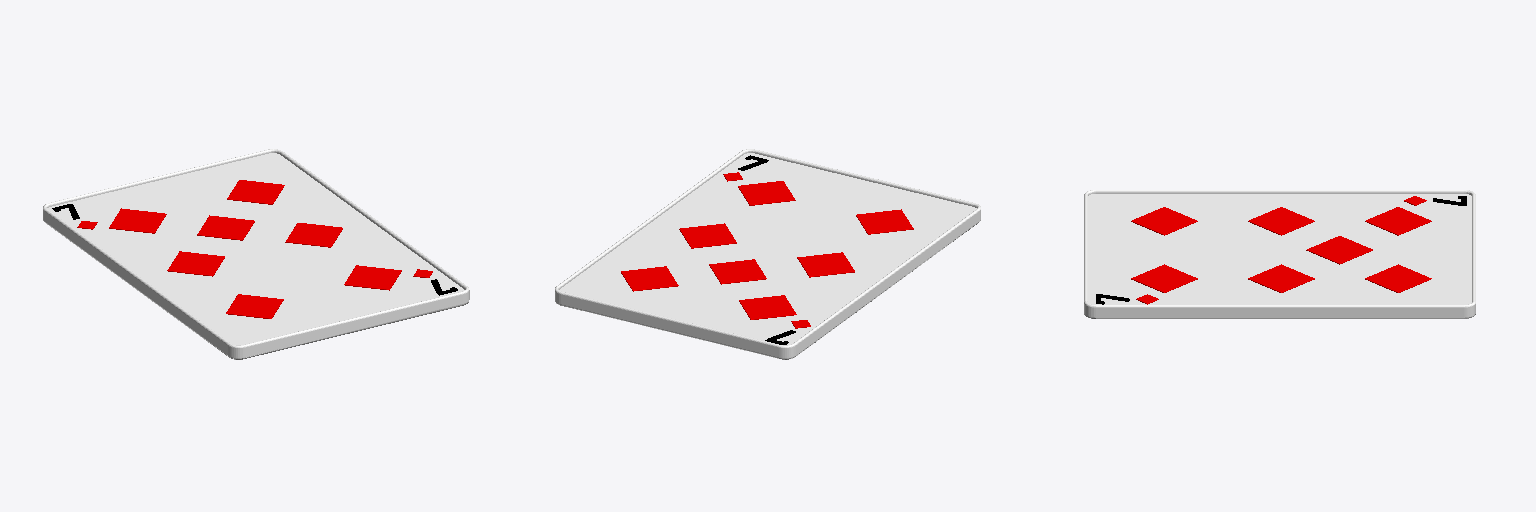
Rendered from diamonds_7.obj.
The picture shows the model from 3 angles: view 1: azimuth 30°, elevation 25°; view 2: azimuth 150°, elevation 25°; view 3: azimuth 270°, elevation 25°; orthographic projection.
Visible parts, largest first — view 1: rect4266.019, rect4266.073, path4884-1-4.006, path4884-1-7.003, path4884-1-4-9.004, path4884-1-4-1-4.002, path4884-1.006, path4884-1-7-8.002, path4884-1-40.004, rect4266.110; view 2: rect4266.019, rect4266.073, path4884-1-7.003, path4884-1-4.006, path4884-1-4-1-4.002, path4884-1.006, path4884-1-40.004, path4884-1-4-9.004, path4884-1-7-8.002; view 3: rect4266.019, rect4266.073, path4884-1.006, path4884-1-4.006, path4884-1-40.004, path4884-1-7.003, path4884-1-4-9.004, path4884-1-4-1-4.002, path4884-1-7-8.002.
Part boxes in pixels (bbox=[...]): rect4266.019: bbox=[47, 153, 464, 344]; rect4266.073: bbox=[43, 149, 469, 358]; path4884-1-4.006: bbox=[226, 294, 283, 318]; path4884-1-7.003: bbox=[167, 251, 224, 276]; path4884-1-4-9.004: bbox=[344, 265, 401, 290]; path4884-1-4-1-4.002: bbox=[197, 215, 254, 240]; path4884-1.006: bbox=[109, 208, 166, 233]; path4884-1-7-8.002: bbox=[285, 223, 342, 247]; path4884-1-40.004: bbox=[227, 180, 284, 204]; rect4266.110: bbox=[46, 223, 468, 359]; rect4266.019: bbox=[559, 153, 976, 344]; rect4266.073: bbox=[555, 149, 980, 358]; path4884-1-7.003: bbox=[797, 252, 854, 277]; path4884-1-4.006: bbox=[856, 209, 913, 234]; path4884-1-4-1-4.002: bbox=[709, 259, 766, 284]; path4884-1.006: bbox=[739, 295, 796, 319]; path4884-1-40.004: bbox=[621, 266, 678, 291]; path4884-1-4-9.004: bbox=[738, 181, 795, 205]; path4884-1-7-8.002: bbox=[679, 223, 736, 248]; rect4266.019: bbox=[1088, 194, 1471, 304]; rect4266.073: bbox=[1084, 190, 1475, 318]; path4884-1.006: bbox=[1365, 207, 1431, 235]; path4884-1-4.006: bbox=[1131, 207, 1197, 235]; path4884-1-40.004: bbox=[1365, 264, 1431, 292]; path4884-1-7.003: bbox=[1248, 207, 1314, 235]; path4884-1-4-9.004: bbox=[1131, 264, 1197, 292]; path4884-1-4-1-4.002: bbox=[1306, 236, 1372, 264]; path4884-1-7-8.002: bbox=[1248, 264, 1314, 292].
Size of the model in its own units: 2.88 by 0.1966 by 4.08.